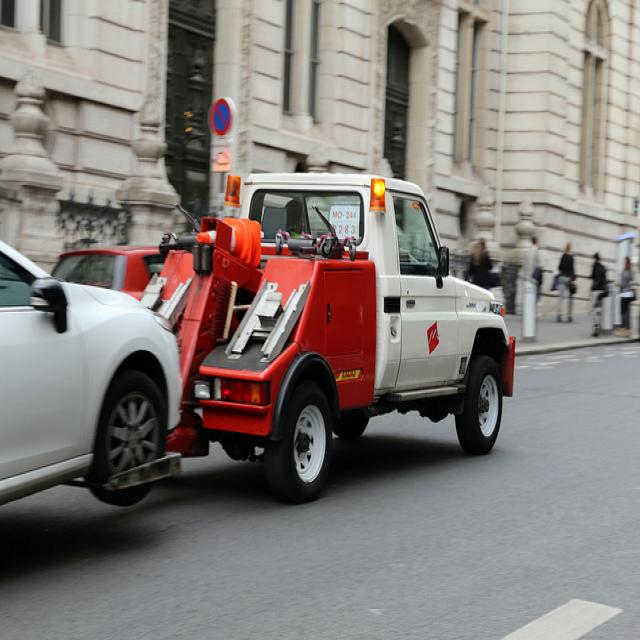Vehicle: (0, 171, 515, 510), (0, 237, 183, 508)
